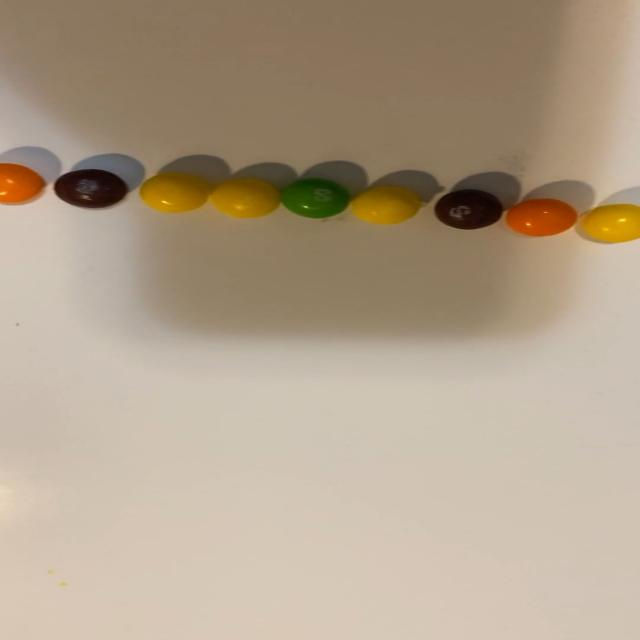smartie: (52, 169, 127, 208), (139, 172, 209, 212), (209, 178, 279, 218), (434, 189, 503, 229), (281, 178, 350, 218), (506, 198, 578, 236), (350, 186, 421, 224), (583, 204, 640, 242), (0, 163, 43, 203)
